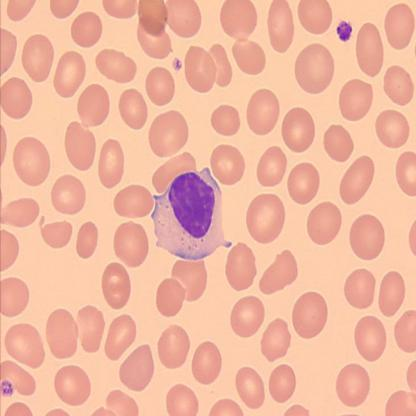Atypical lymphocyte: (152, 167, 233, 260)
